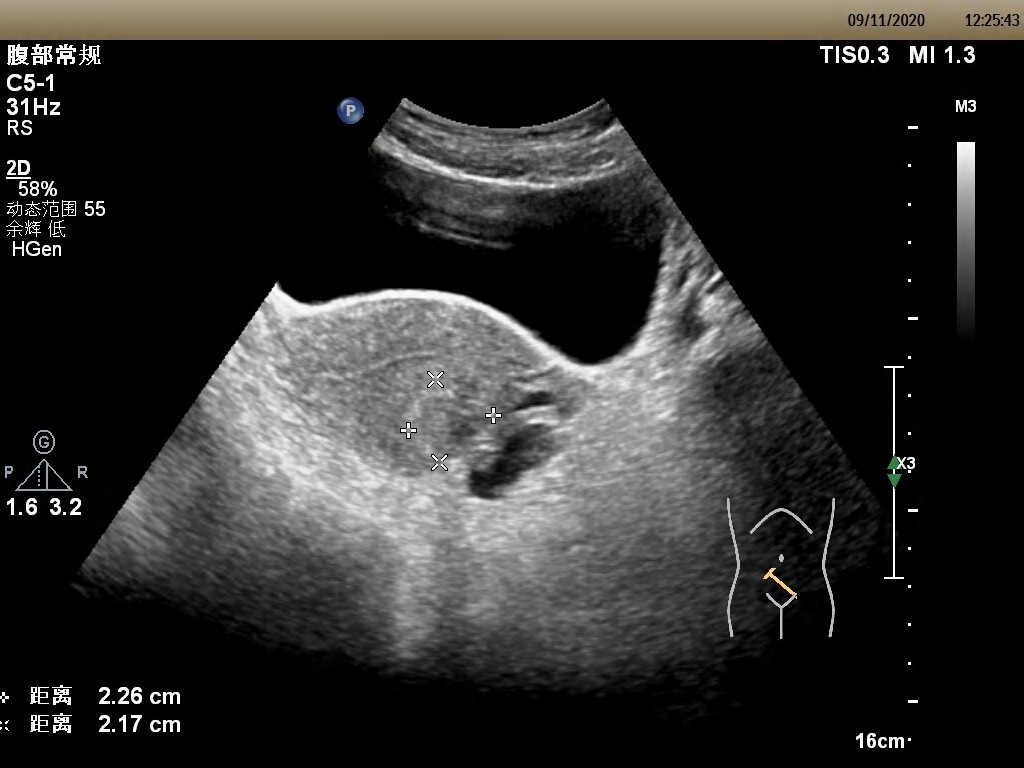肌瘤: (406, 386, 486, 460)
